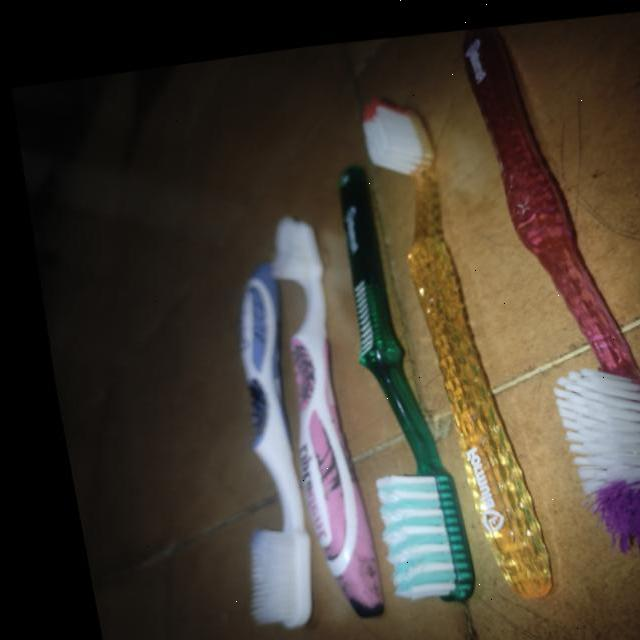toothbrush: (191, 0, 282, 404), (222, 0, 274, 296), (346, 1, 382, 380), (496, 0, 544, 284)
